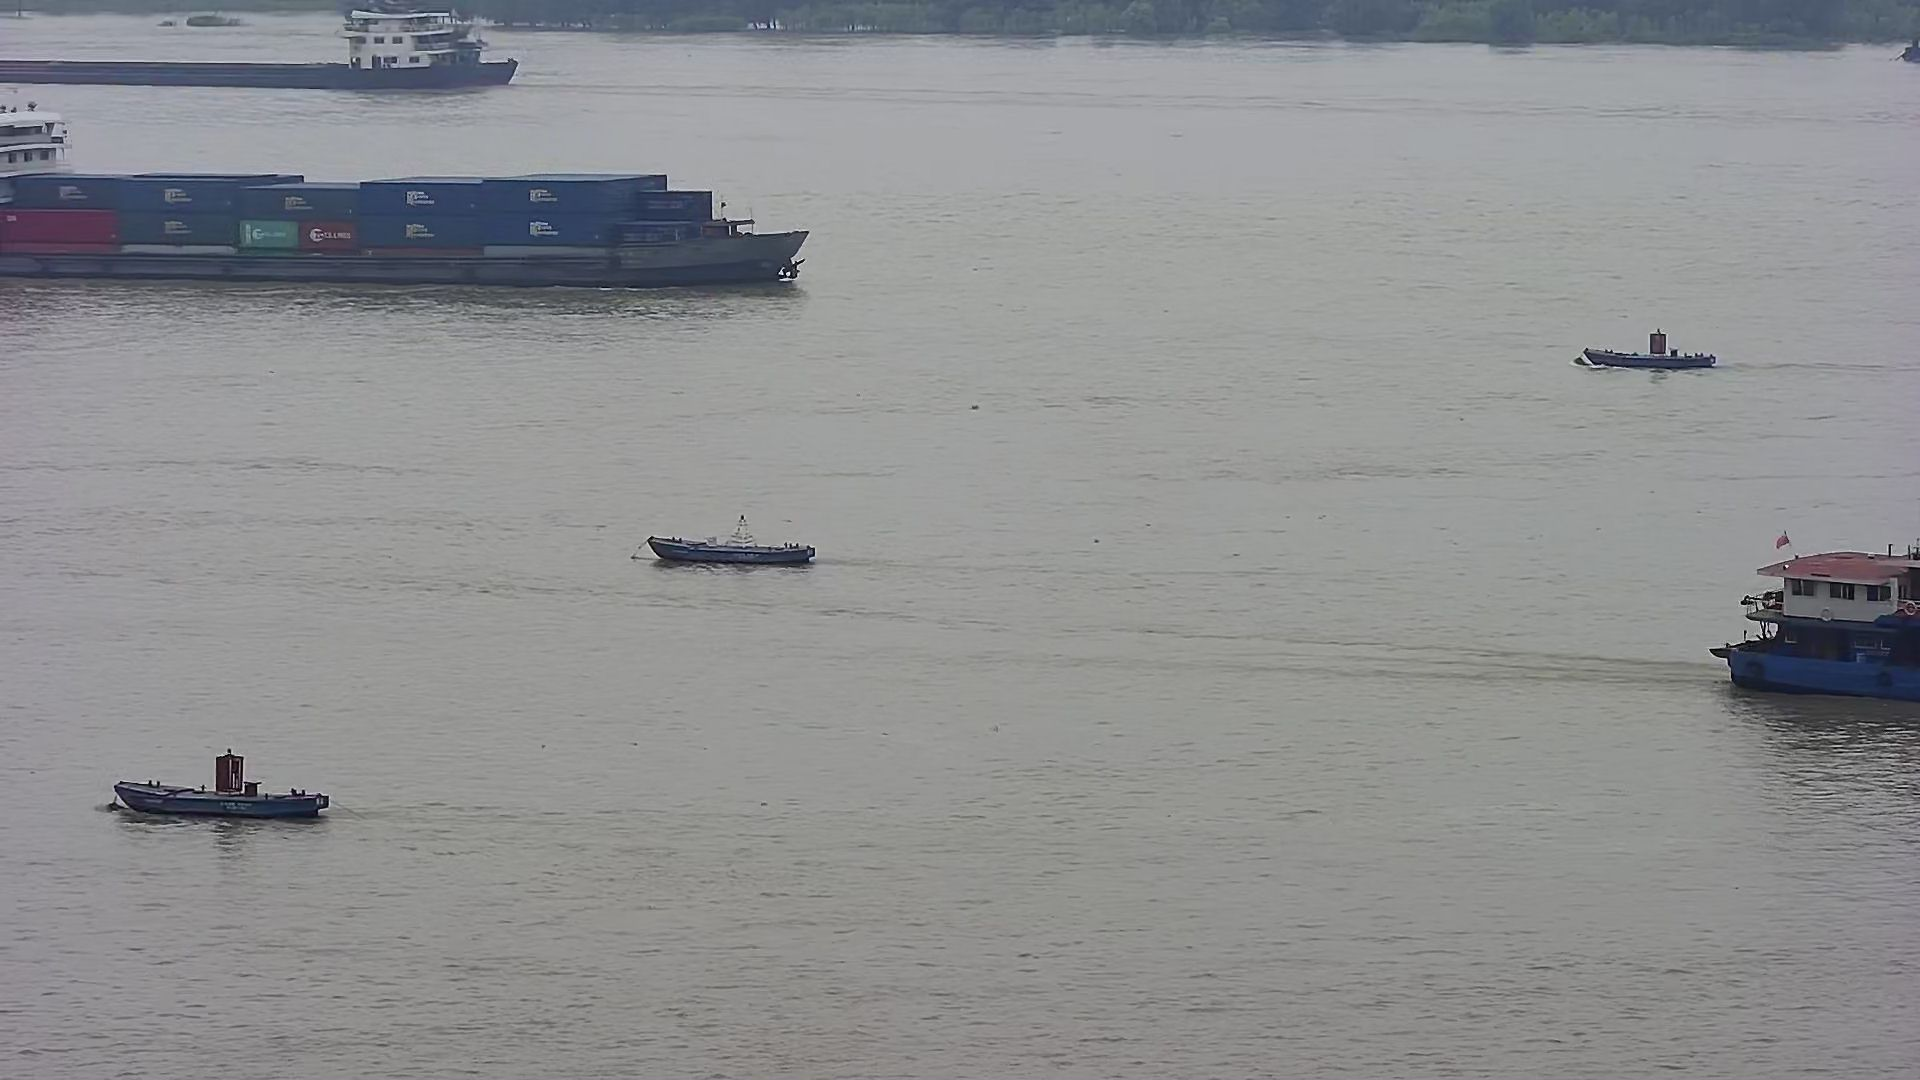boat: (102, 741, 349, 831), (625, 505, 833, 584), (1557, 316, 1731, 382)
ship: (1, 91, 829, 301), (1, 1, 545, 98), (1695, 508, 1920, 720)
